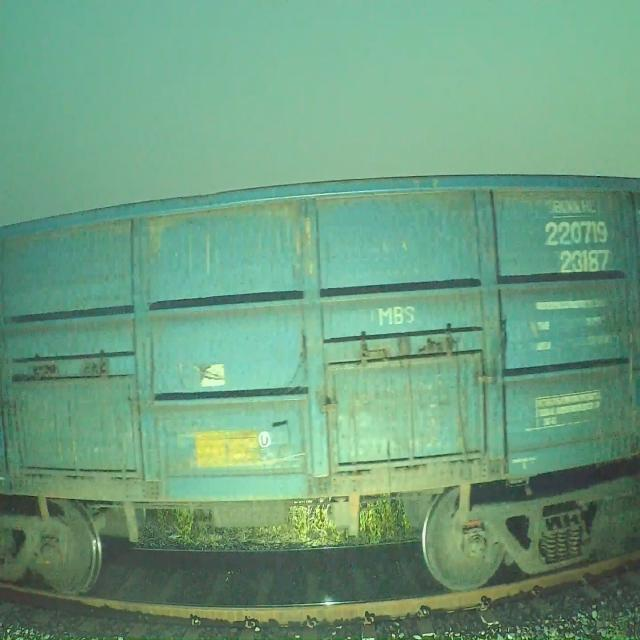WAgon-uic: (0, 169, 640, 603)
uic: (537, 213, 616, 280)
